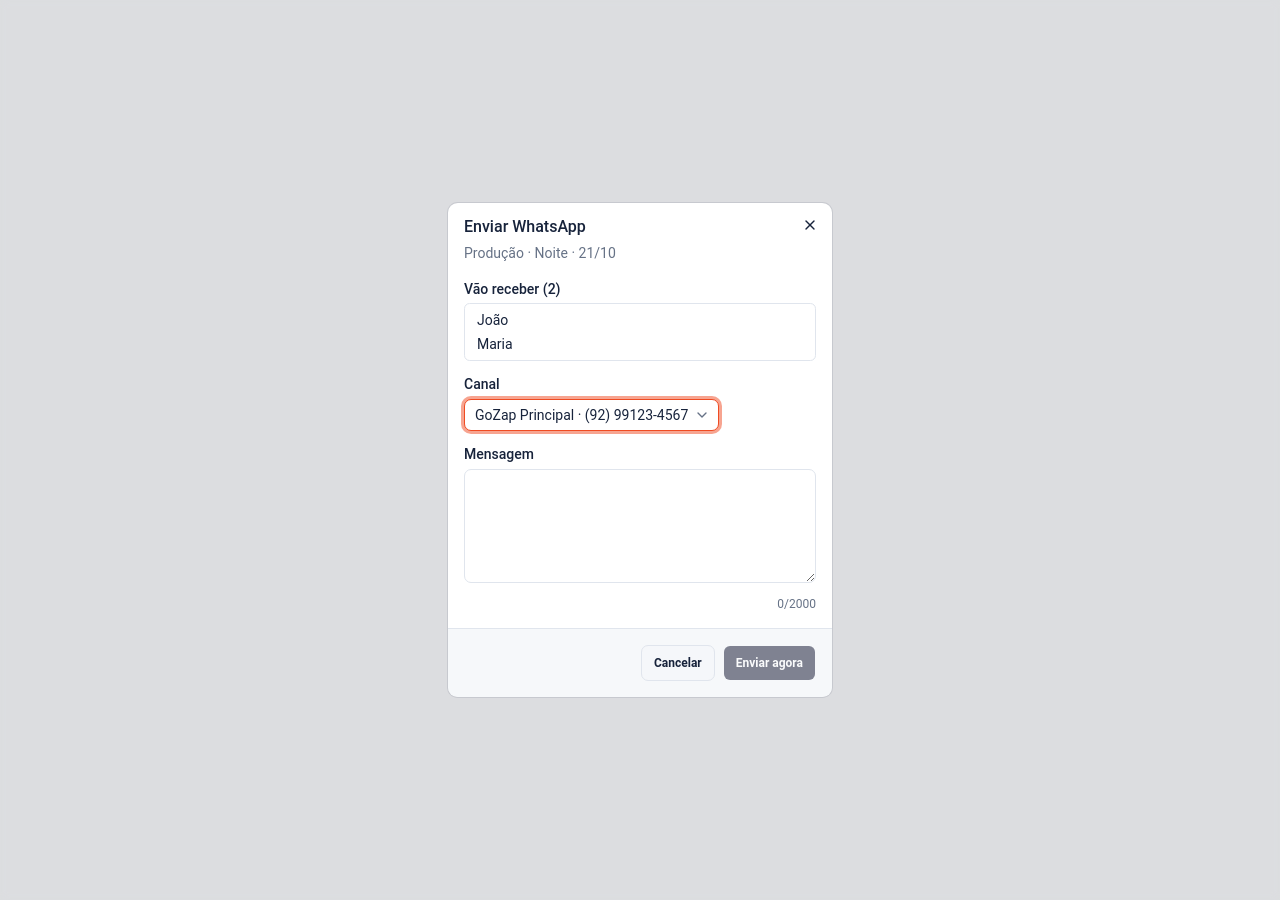
Scenario: SendWhatsappDialog: nomes › nível inválido (422) mostra a mensagem e não fecha
Type "Oi equipe" into the text box at (640, 526), box 464,469 -> 816,583
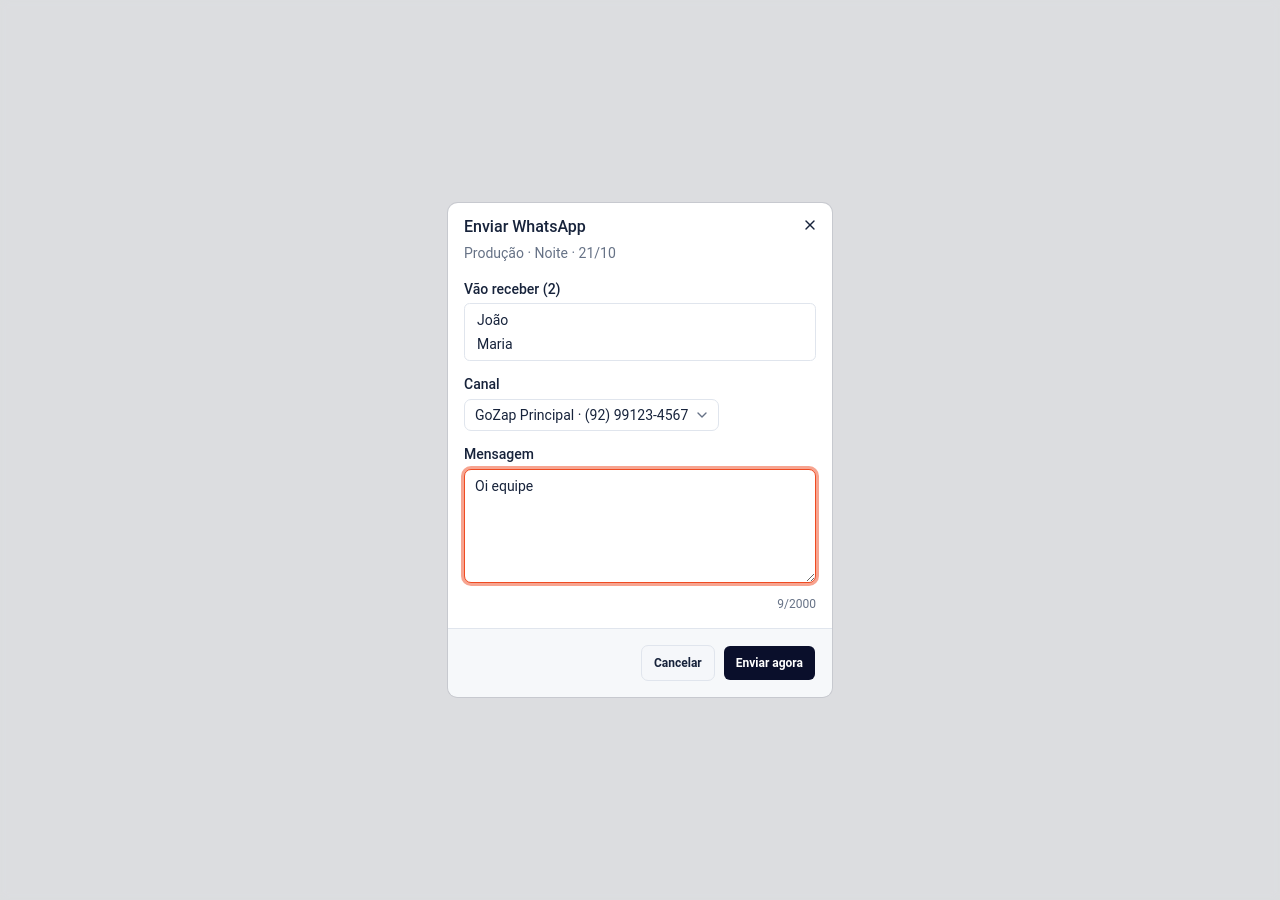
Click the button "Enviar agora" at (769, 663), box 723,645 -> 816,681
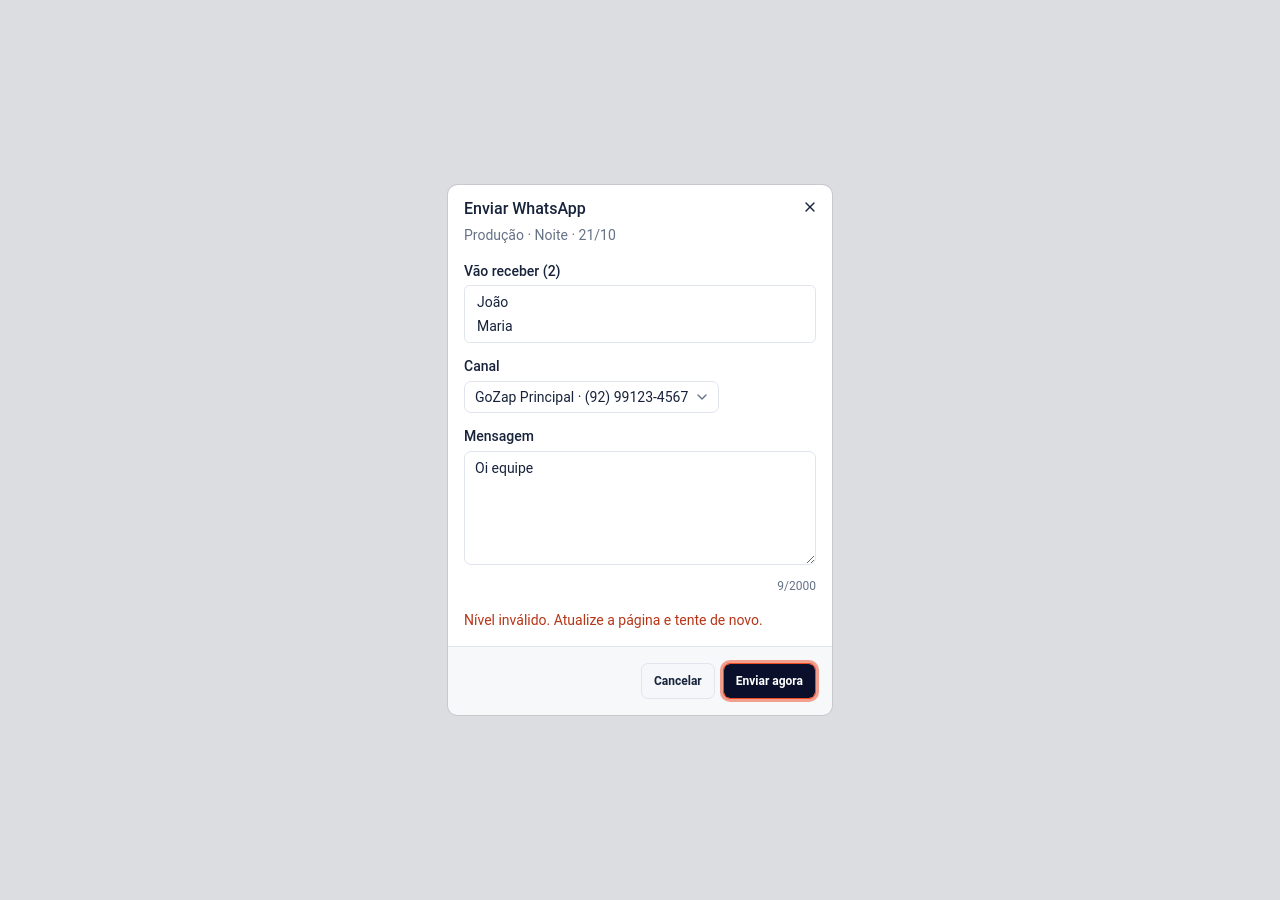
Check: the message reads "Nível inválido. Atualize a página e tente de novo.", box 464,612 -> 763,628
